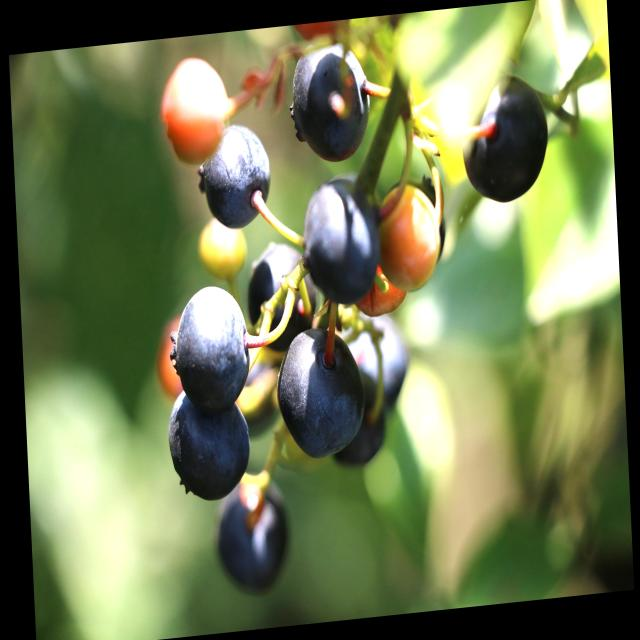blueberry: (453, 66, 556, 215), (270, 317, 370, 469), (280, 34, 376, 170), (296, 169, 384, 313), (164, 278, 255, 414), (209, 468, 295, 604), (162, 380, 254, 507), (328, 291, 414, 426), (192, 117, 278, 238), (242, 234, 322, 361), (322, 362, 391, 475)
blueberry-halfripe: (372, 177, 442, 295), (160, 53, 231, 164)
